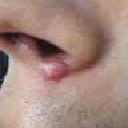Carbuncle: (39, 59, 73, 80)
